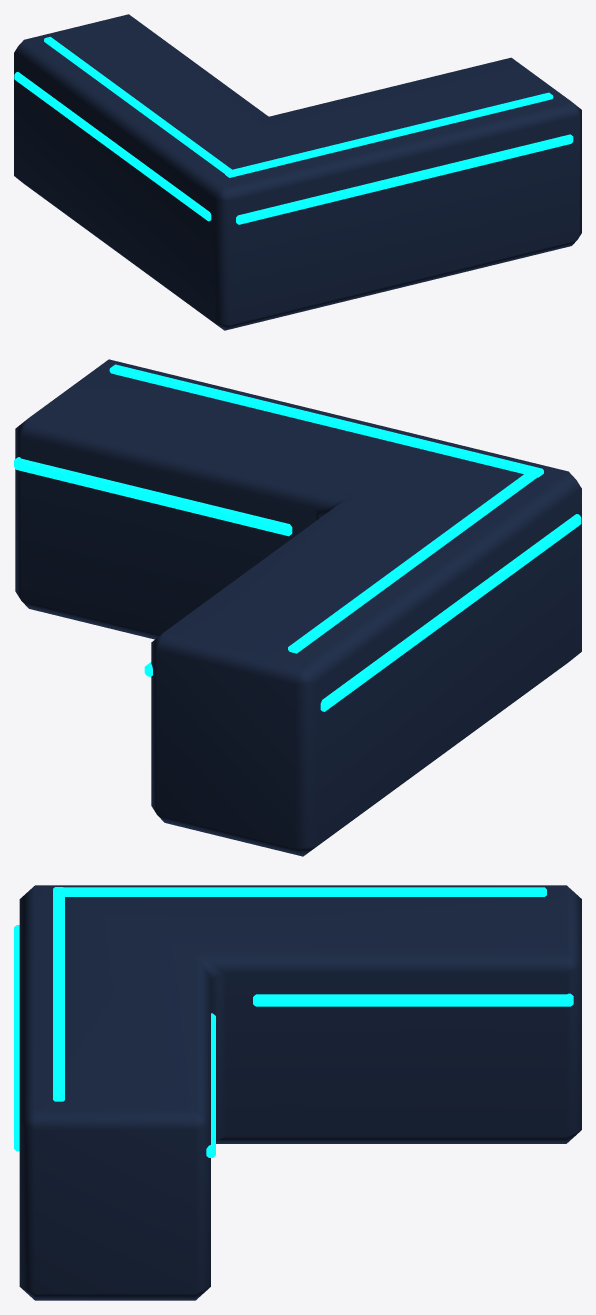
The model's file is NT_Cover_L_Cyan.fbx.
3 views of the same model, one above another, from view 1: azimuth 30°, elevation 25°; view 2: azimuth 150°, elevation 25°; view 3: azimuth 270°, elevation 25° (orthographic). The views are drawn at different scales.
Visible parts, largest first — view 1: NT_Cover_L_Cyan__CoverMesh; view 2: NT_Cover_L_Cyan__CoverMesh; view 3: NT_Cover_L_Cyan__CoverMesh.
Part boxes in pixels (x1=…): NT_Cover_L_Cyan__CoverMesh: x1=14, y1=14, x2=581, y2=330; NT_Cover_L_Cyan__CoverMesh: x1=14, y1=359, x2=581, y2=856; NT_Cover_L_Cyan__CoverMesh: x1=14, y1=885, x2=581, y2=1300.
Size of the model in its own units: 2.02 by 0.774 by 2.02.
